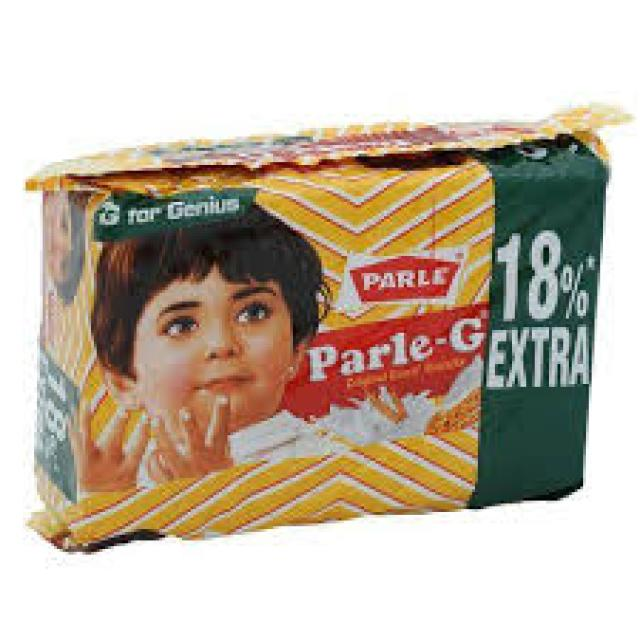parle-g: (33, 113, 614, 555)
